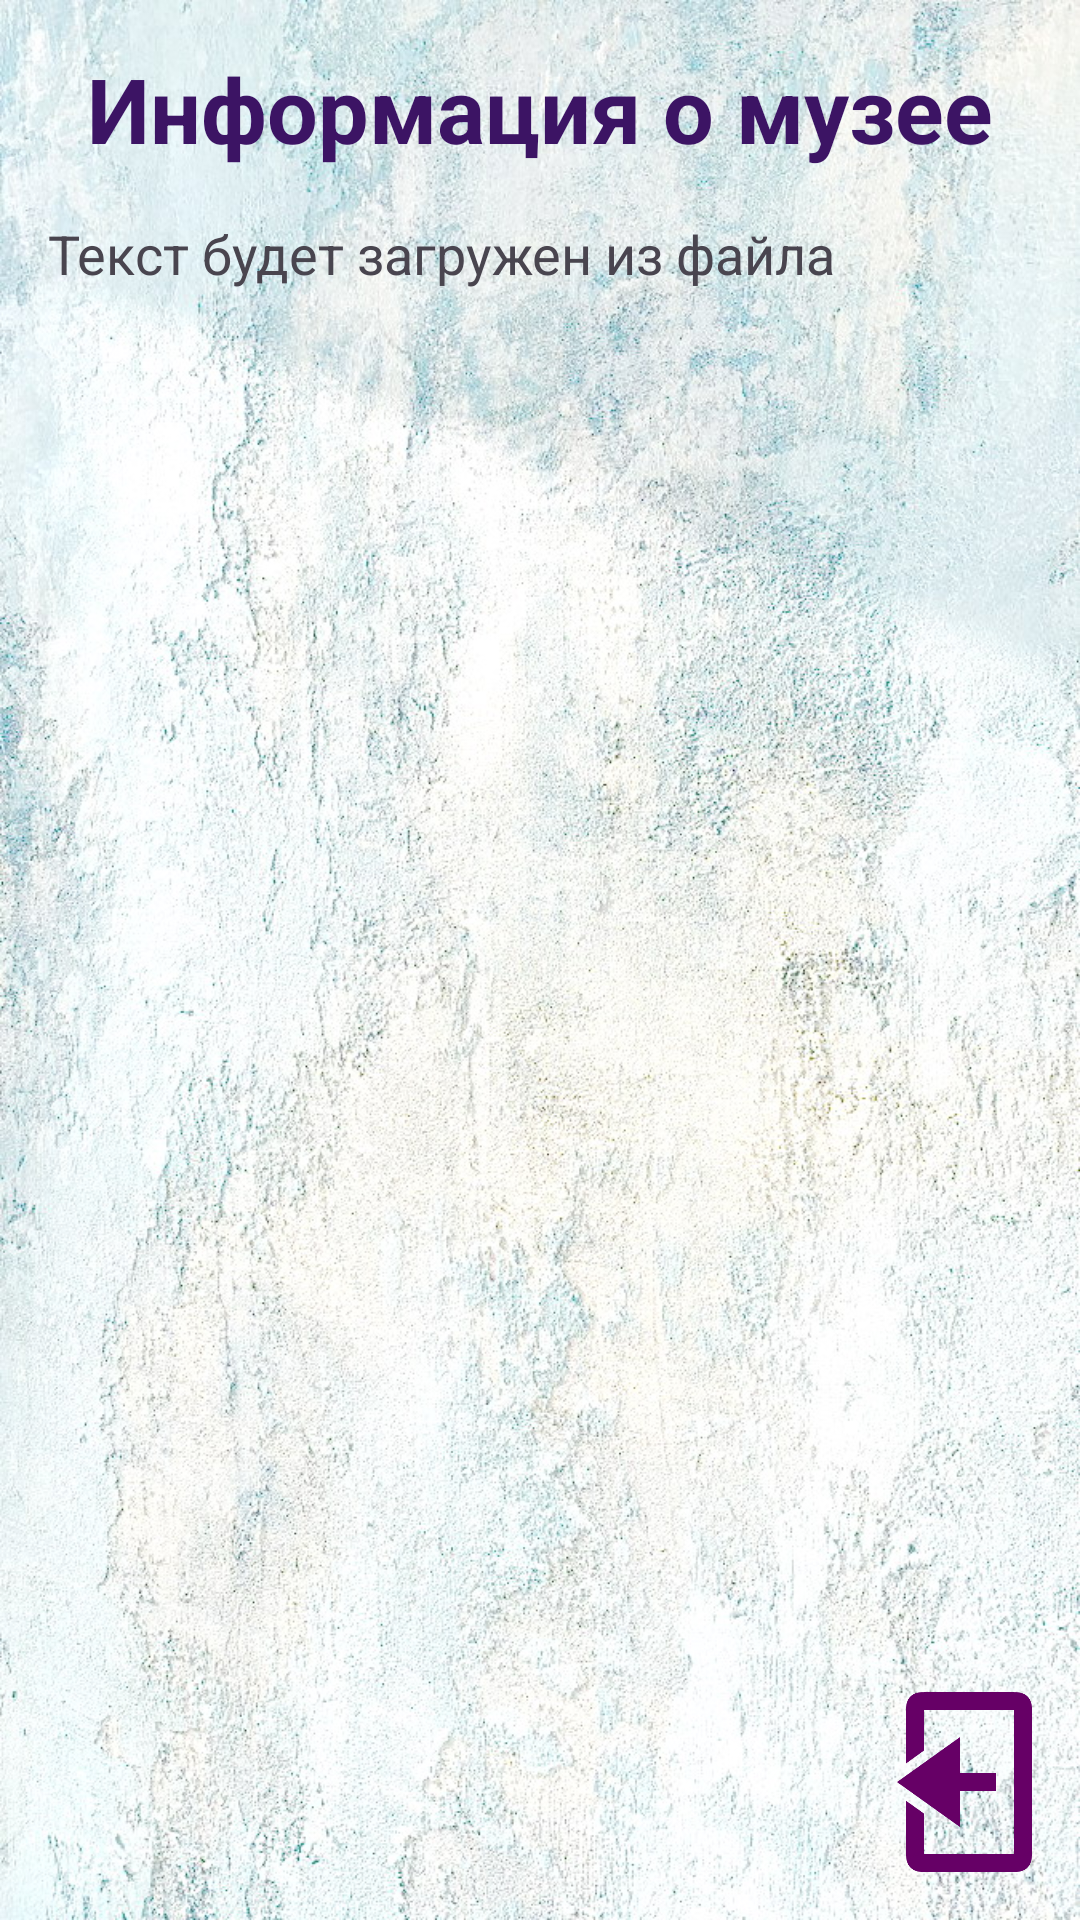

Point at icon controls on the screen. Image size 1080*1920, points as (x,y).
back: (964,1782)
